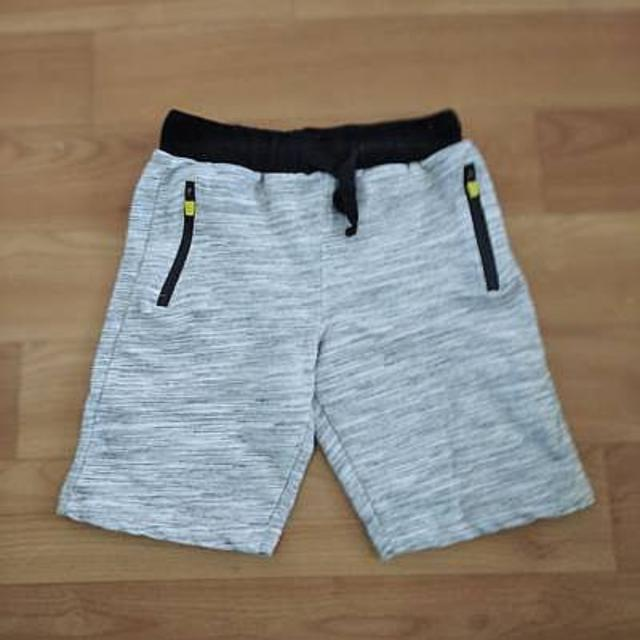SHORT: (48, 100, 603, 566)
